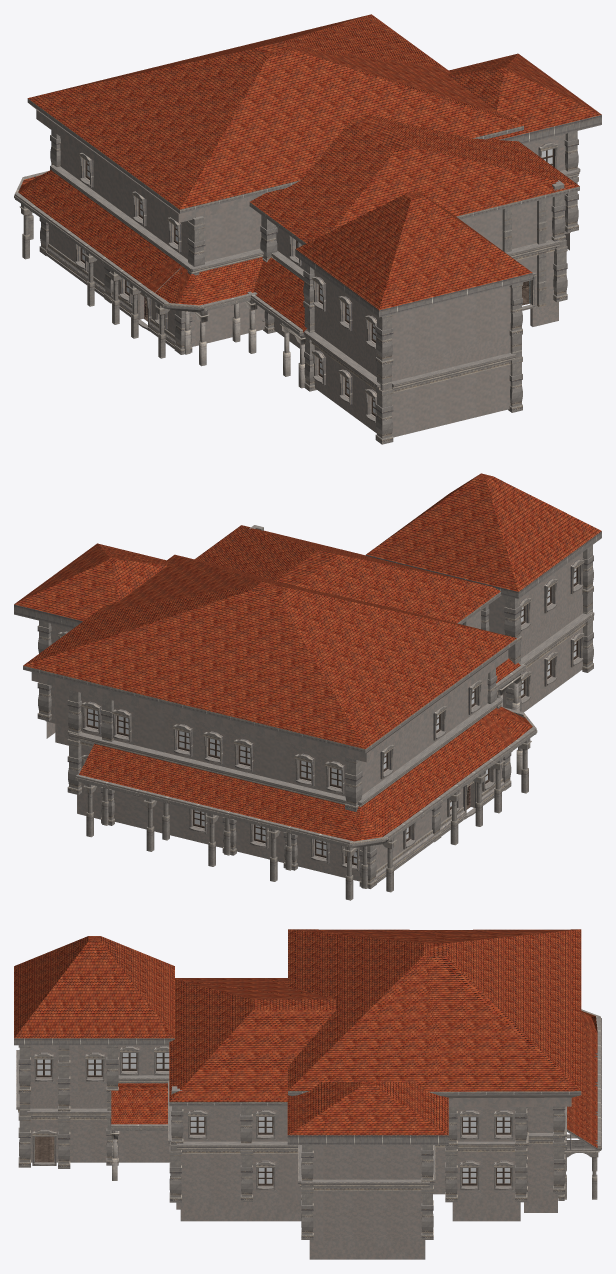
Rendered from House_final.fbx.
The picture shows the model from 3 angles, top to bottom: view 1: azimuth 30°, elevation 25°; view 2: azimuth 150°, elevation 25°; view 3: azimuth 270°, elevation 25°; orthographic projection. The views are drawn at different scales.
Parts seen in each view (by area): view 1: HouseStructure_.043, HouseStructure_.044, HouseStructure_.029, HouseStructure_.046, HouseStructure_.028, HouseStructure_.039, HouseStructure_.045, HouseStructure_.049, HouseStructure_.027, HouseStructure_.034, HouseStructure_.037, HouseStructure_.025 (+7 smaller); view 2: HouseStructure_.043, HouseStructure_.046, HouseStructure_.048, HouseStructure_.044, HouseStructure_.047, HouseStructure_.037, HouseStructure_.028, HouseStructure_.049, HouseStructure_.045, HouseStructure_.038, HouseStructure_.039, HouseStructure_.025 (+5 smaller); view 3: HouseStructure_.043, HouseStructure_.044, HouseStructure_.046, HouseStructure_.032, HouseStructure_.035, HouseStructure_.036, HouseStructure_.030, HouseStructure_.045, HouseStructure_.042, HouseStructure_.038, HouseStructure_.048, HouseStructure_.037 (+5 smaller).
Part boxes in pixels (bbox=[...]): HouseStructure_.043: bbox=[27, 14, 523, 222]; HouseStructure_.044: bbox=[249, 115, 579, 244]; HouseStructure_.029: bbox=[375, 285, 515, 444]; HouseStructure_.046: bbox=[295, 191, 532, 317]; HouseStructure_.028: bbox=[303, 263, 380, 433]; HouseStructure_.039: bbox=[84, 219, 257, 312]; HouseStructure_.045: bbox=[447, 53, 601, 143]; HouseStructure_.049: bbox=[84, 176, 199, 358]; HouseStructure_.027: bbox=[174, 206, 265, 366]; HouseStructure_.034: bbox=[460, 197, 560, 326]; HouseStructure_.037: bbox=[14, 170, 117, 250]; HouseStructure_.025: bbox=[43, 130, 114, 291]; HouseStructure_.043: bbox=[23, 554, 516, 762]; HouseStructure_.046: bbox=[365, 473, 601, 598]; HouseStructure_.048: bbox=[67, 690, 236, 866]; HouseStructure_.044: bbox=[194, 525, 501, 624]; HouseStructure_.047: bbox=[214, 729, 396, 900]; HouseStructure_.037: bbox=[227, 759, 458, 847]; HouseStructure_.028: bbox=[504, 552, 594, 712]; HouseStructure_.049: bbox=[407, 674, 531, 845]; HouseStructure_.045: bbox=[14, 543, 167, 628]; HouseStructure_.038: bbox=[75, 743, 246, 818]; HouseStructure_.039: bbox=[426, 706, 537, 790]; HouseStructure_.025: bbox=[345, 730, 427, 884]; HouseStructure_.043: bbox=[288, 929, 581, 1106]; HouseStructure_.044: bbox=[169, 978, 336, 1106]; HouseStructure_.046: bbox=[14, 936, 174, 1045]; HouseStructure_.032: bbox=[301, 1145, 433, 1259]; HouseStructure_.035: bbox=[18, 1045, 170, 1180]; HouseStructure_.036: bbox=[169, 1086, 301, 1221]; HouseStructure_.030: bbox=[433, 1106, 559, 1221]; HouseStructure_.045: bbox=[287, 1081, 448, 1144]; HouseStructure_.042: bbox=[111, 1083, 167, 1130]; HouseStructure_.038: bbox=[567, 1066, 601, 1150]; HouseStructure_.048: bbox=[553, 1082, 599, 1200]; HouseStructure_.037: bbox=[581, 1009, 601, 1075].
Size of the model in its own units: 2880 by 1328 by 3459.
